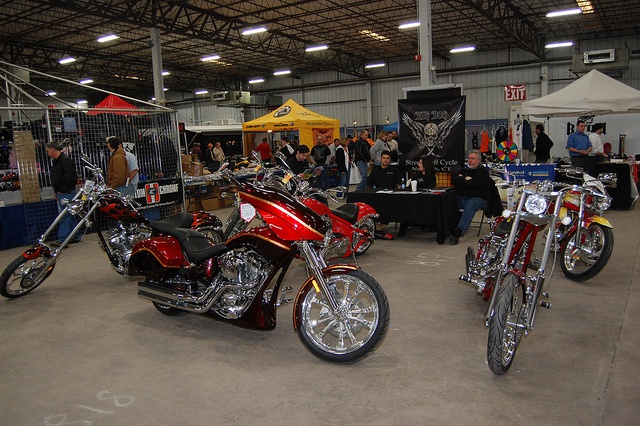non-vehicle: (124, 181, 391, 365), (450, 162, 627, 380), (0, 153, 227, 298), (250, 149, 379, 267), (560, 186, 616, 282)
